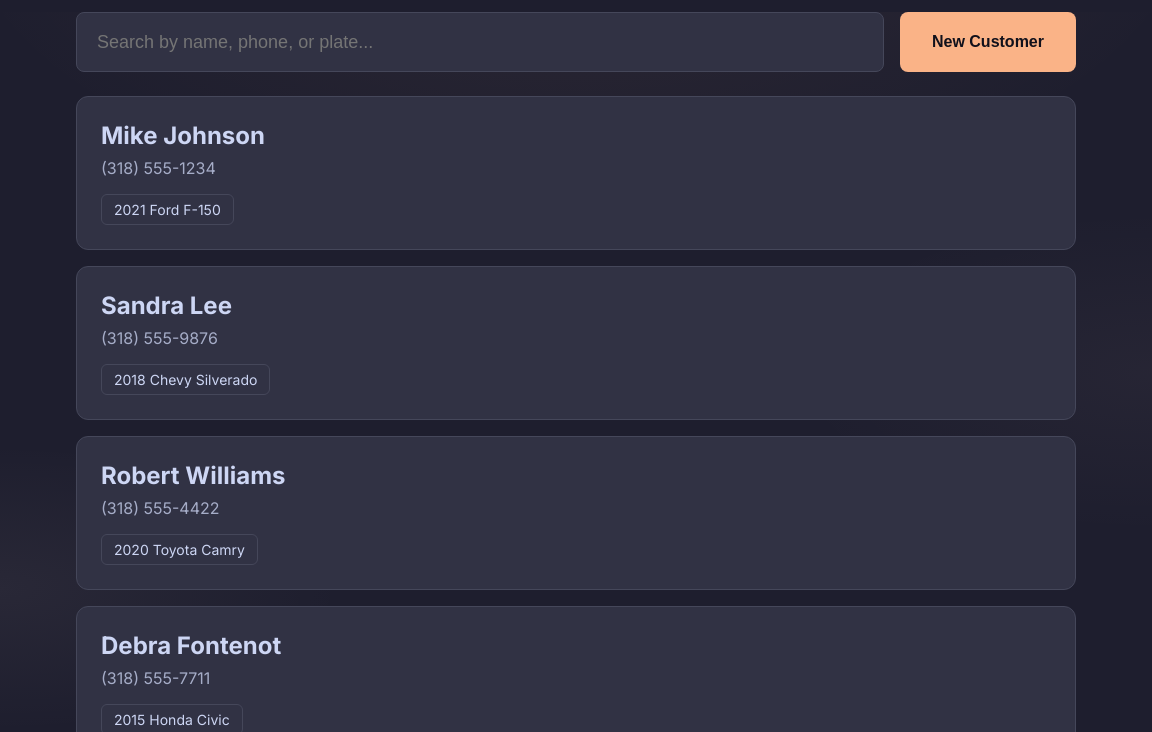
Test: CheckInScreen › filters by name
The image size is (1152, 732).
In the field with placeholder "Search by name, phone, or plate...": (480, 42) x1=76 y1=12 x2=884 y2=72, type "Mike"
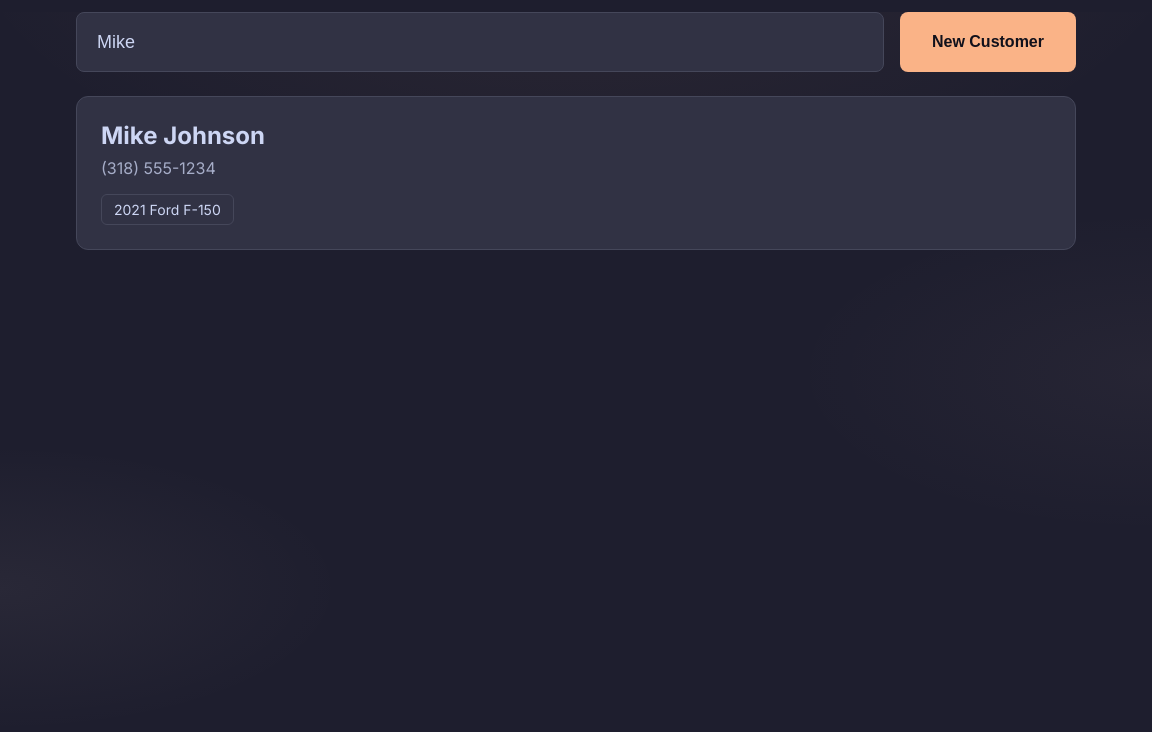
Expected: the text "Sandra Lee" is gone
Expected: the text "Robert Williams" is gone
Expected: the text "Debra Fontenot" is gone
